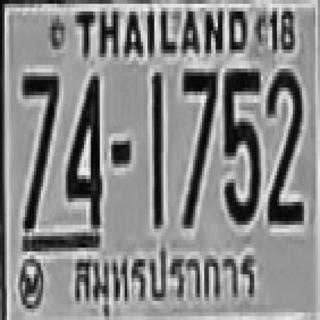N01: (150, 70, 161, 227)
N02: (264, 67, 301, 223)
N04: (64, 72, 100, 225)
N05: (222, 65, 259, 221)
N07: (20, 70, 57, 227), (182, 69, 216, 225), (20, 72, 57, 179), (182, 68, 216, 179)
P57: (70, 248, 259, 309)
